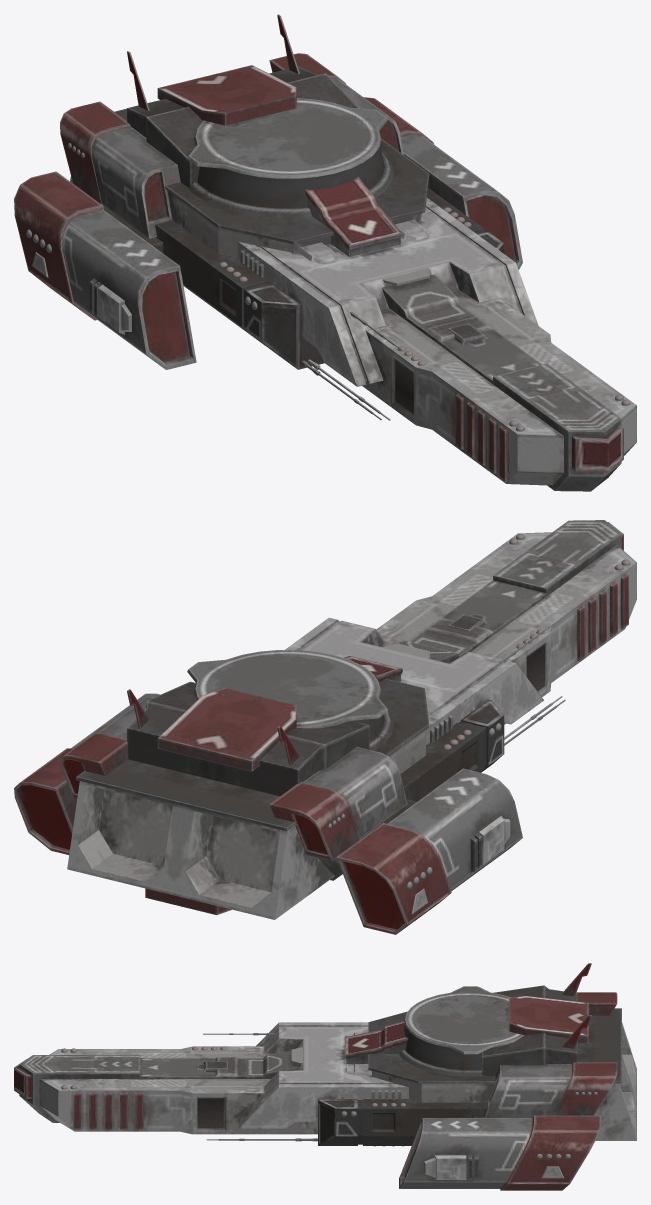
The model's file is insurgent_red.glb.
The picture shows the model from 3 angles, top to bottom: view 1: azimuth 30°, elevation 25°; view 2: azimuth 150°, elevation 25°; view 3: azimuth 270°, elevation 25°; orthographic projection. The views are drawn at different scales.
Visible parts, largest first — view 1: insurgent; view 2: insurgent; view 3: insurgent.
Boxes of the visible parts, left/top/right/bottom form: insurgent: left=14, top=14, right=636, bottom=491; insurgent: left=14, top=520, right=636, bottom=934; insurgent: left=14, top=963, right=636, bottom=1190.
Bounding box in the file's own units: 5.57 × 2.87 × 10.95.
1 material, 1 textured.
